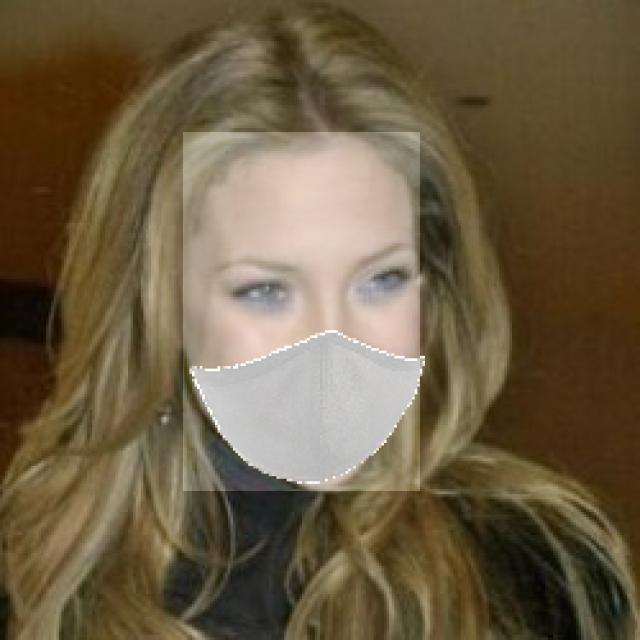cloth: (183, 132, 420, 491)
